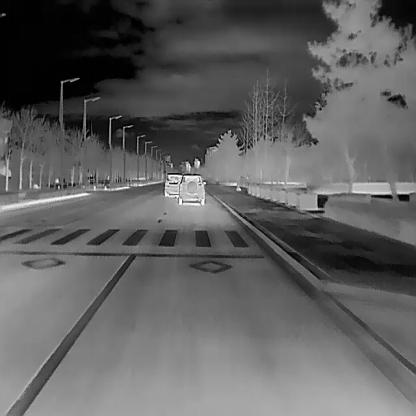car: (178, 174, 206, 205), (164, 172, 182, 198)
